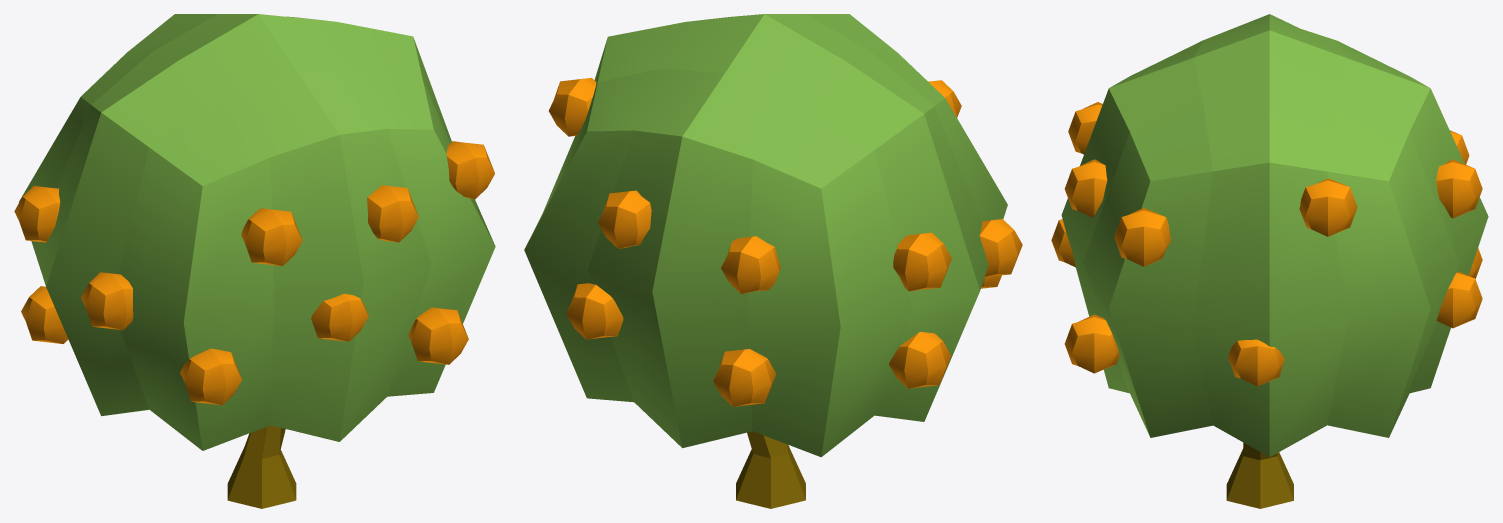
Rendered from Arbusto_4.fbx.
The picture shows the model from 3 angles, left to right: view 1: azimuth 30°, elevation 25°; view 2: azimuth 150°, elevation 25°; view 3: azimuth 270°, elevation 25°; orthographic projection. The views are drawn at different scales.
Visible parts, largest first — view 1: pCube22, tronco, pCube24, pCube25, pCube23, pCube35, pCube26, pCube32, pCube27, pCube36, pCube37; view 2: pCube22, tronco, pCube29, pCube36, pCube28, pCube37, pCube30, pCube31, pCube34, pCube35; view 3: pCube22, tronco, pCube34, pCube32, pCube25, pCube30, pCube33, pCube26, pCube31, pCube24, pCube27.
Boxes of the visible parts, box(x1,y1,x2,y2) form: pCube22: box(19, 14, 495, 450); tronco: box(227, 425, 296, 508); pCube24: box(241, 208, 302, 265); pCube25: box(408, 307, 468, 364); pCube23: box(180, 348, 241, 405); pCube35: box(81, 272, 133, 330); pCube26: box(367, 185, 418, 242); pCube32: box(446, 141, 494, 199); pCube27: box(311, 293, 368, 341); pCube36: box(14, 186, 60, 242); pCube37: box(21, 286, 68, 343); pCube22: box(524, 14, 1007, 457); tronco: box(736, 431, 805, 508); pCube29: box(713, 349, 775, 406); pCube36: box(893, 232, 951, 291); pCube28: box(721, 236, 780, 293); pCube37: box(889, 332, 951, 388); pCube30: box(598, 190, 651, 248); pCube31: box(566, 283, 623, 339); pCube34: box(548, 77, 596, 136); pCube35: box(979, 219, 1022, 277); pCube22: box(1061, 14, 1488, 457); tronco: box(1226, 442, 1293, 508); pCube34: box(1299, 178, 1357, 236); pCube32: box(1114, 208, 1170, 266); pCube25: box(1064, 314, 1119, 373); pCube30: box(1436, 159, 1482, 218); pCube33: box(1228, 339, 1285, 386); pCube26: box(1064, 159, 1107, 217); pCube31: box(1436, 271, 1482, 328); pCube24: box(1068, 102, 1102, 154); pCube27: box(1051, 219, 1075, 267).
Size of the model in its own units: 7.92 by 8.59 by 7.35.
